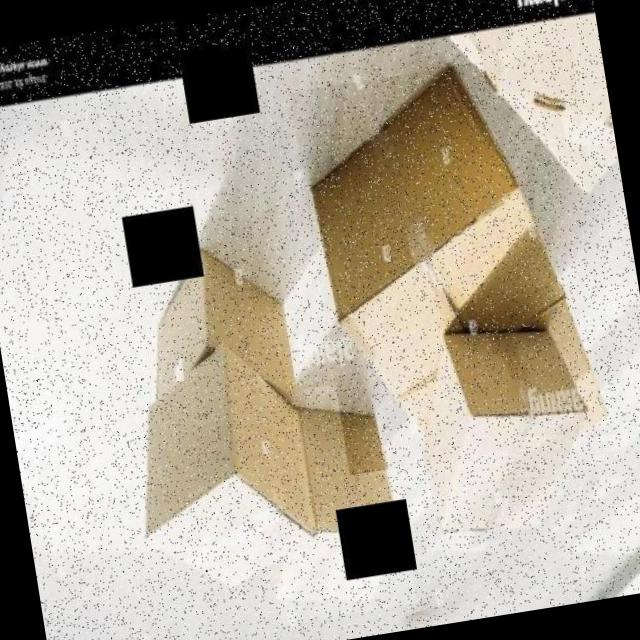box: (288, 48, 631, 476), (117, 331, 327, 604), (400, 308, 606, 550), (245, 376, 418, 625), (124, 226, 306, 436)
